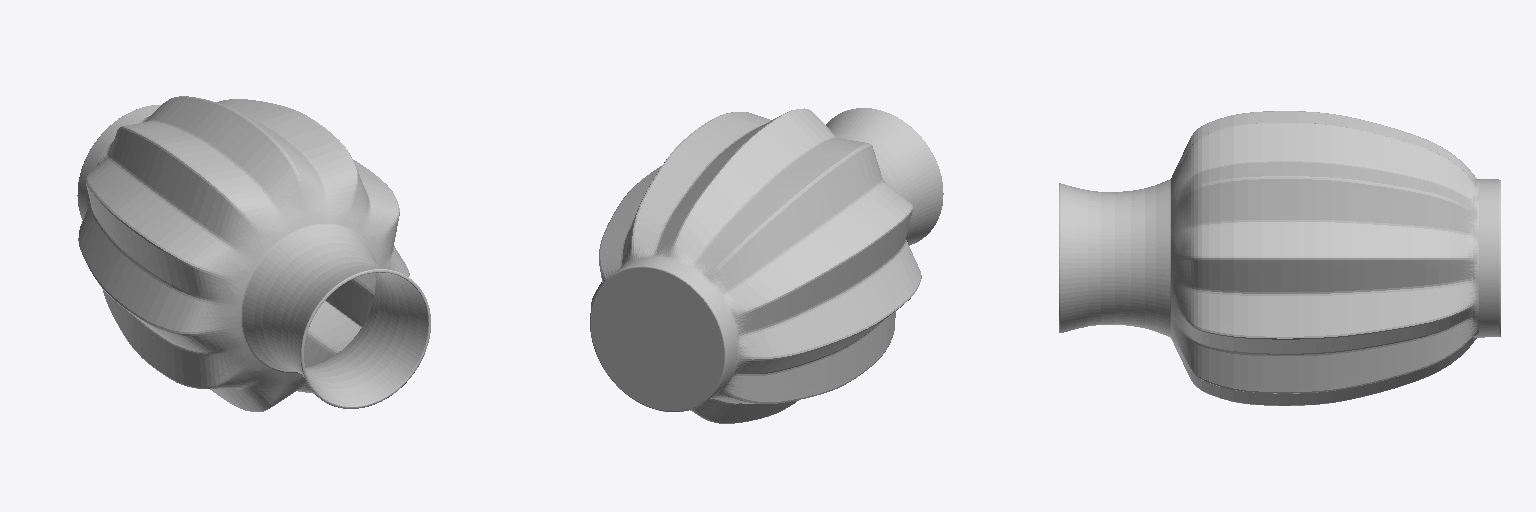
The model's file is vase_xyz.obj.
The picture shows the model from 3 angles: view 1: azimuth 30°, elevation 25°; view 2: azimuth 150°, elevation 25°; view 3: azimuth 270°, elevation 25°; orthographic projection.
Visible parts, largest first — view 1: 10327_Vase_v1_max2010.002; view 2: 10327_Vase_v1_max2010.002; view 3: 10327_Vase_v1_max2010.002.
Boxes of the visible parts, x1=… form: 10327_Vase_v1_max2010.002: x1=77, y1=96, x2=430, y2=411; 10327_Vase_v1_max2010.002: x1=590, y1=108, x2=943, y2=423; 10327_Vase_v1_max2010.002: x1=1059, y1=111, x2=1500, y2=405.
Size of the model in its own units: 0.3035 by 0.3009 by 0.4555.